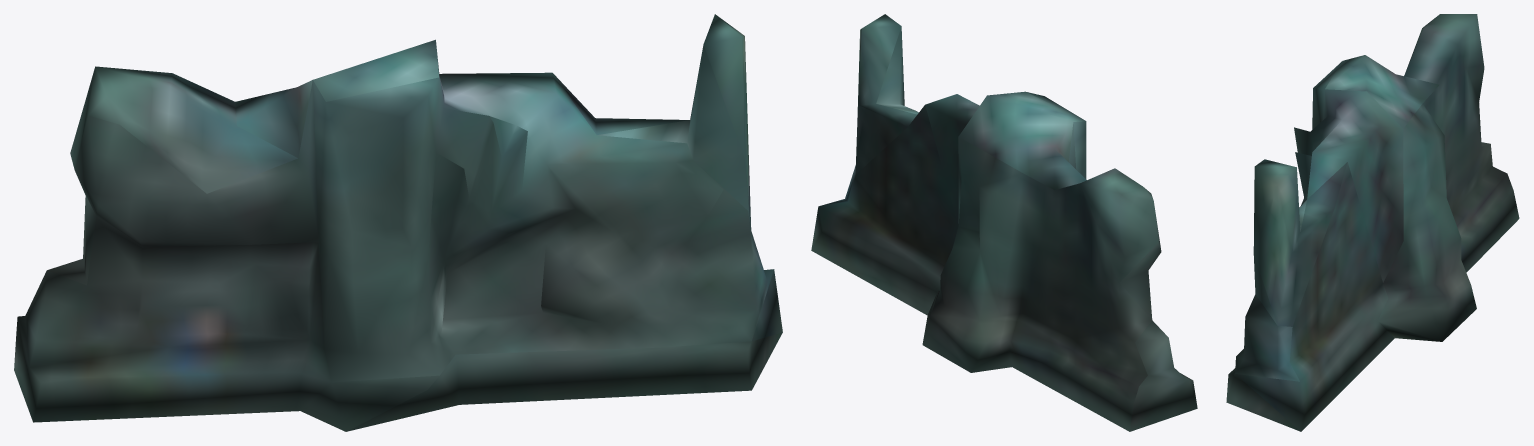
File: Pared_Derecha_Chiquita_Rota_3.glb
3 views of the same model, side by side, from view 1: azimuth 30°, elevation 25°; view 2: azimuth 150°, elevation 25°; view 3: azimuth 270°, elevation 25° (orthographic). The views are drawn at different scales.
Visible parts, largest first — view 1: Pared Derecha Chiquita Rota 3; view 2: Pared Derecha Chiquita Rota 3; view 3: Pared Derecha Chiquita Rota 3.
Part boxes in pixels (<box>): Pared Derecha Chiquita Rota 3: <box>14,14,782,431</box>; Pared Derecha Chiquita Rota 3: <box>811,14,1197,431</box>; Pared Derecha Chiquita Rota 3: <box>1226,14,1519,431</box>.
Size of the model in its own units: 0.1034 by 0.051 by 0.0564.
Materials: 1 (1 with a texture image).
